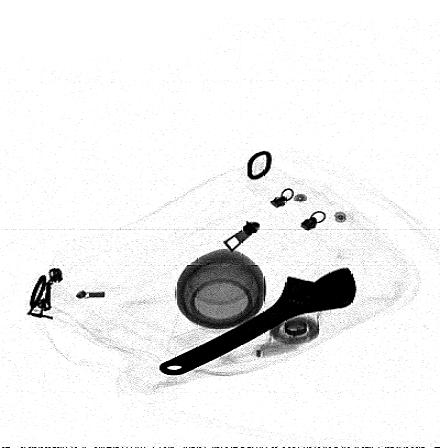Wrench: (157, 265, 357, 376)
